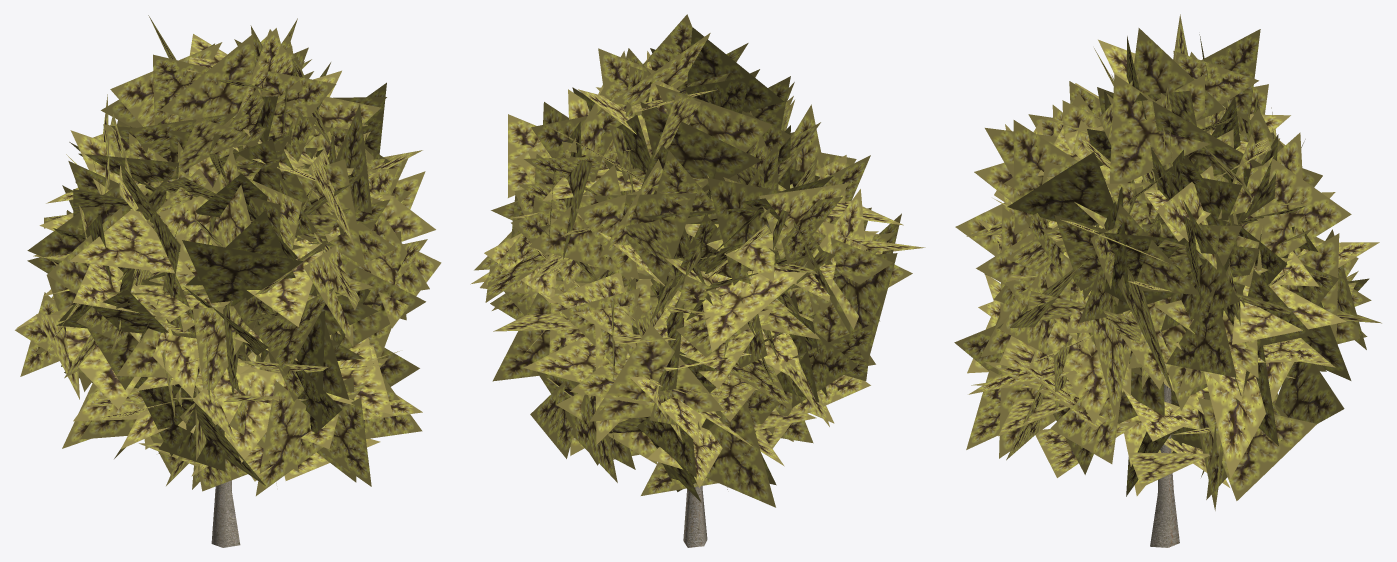
File: Alnus_Rubra_Autumn_Young.glb
3 views of the same model, side by side, from view 1: azimuth 30°, elevation 25°; view 2: azimuth 150°, elevation 25°; view 3: azimuth 270°, elevation 25° (orthographic). The views are drawn at different scales.
Parts seen in each view (by area): view 1: Alnus_Rubra_Autumn_Young__LOD3; view 2: Alnus_Rubra_Autumn_Young__LOD3; view 3: Alnus_Rubra_Autumn_Young__LOD3.
Part boxes in pixels (left/top/right/bottom): Alnus_Rubra_Autumn_Young__LOD3: left=15, top=15, right=441, bottom=547; Alnus_Rubra_Autumn_Young__LOD3: left=470, top=14, right=925, bottom=547; Alnus_Rubra_Autumn_Young__LOD3: left=954, top=14, right=1381, bottom=547.
Size of the model in its own units: 9.37 by 12.13 by 9.04.
2 materials, 2 textured.
